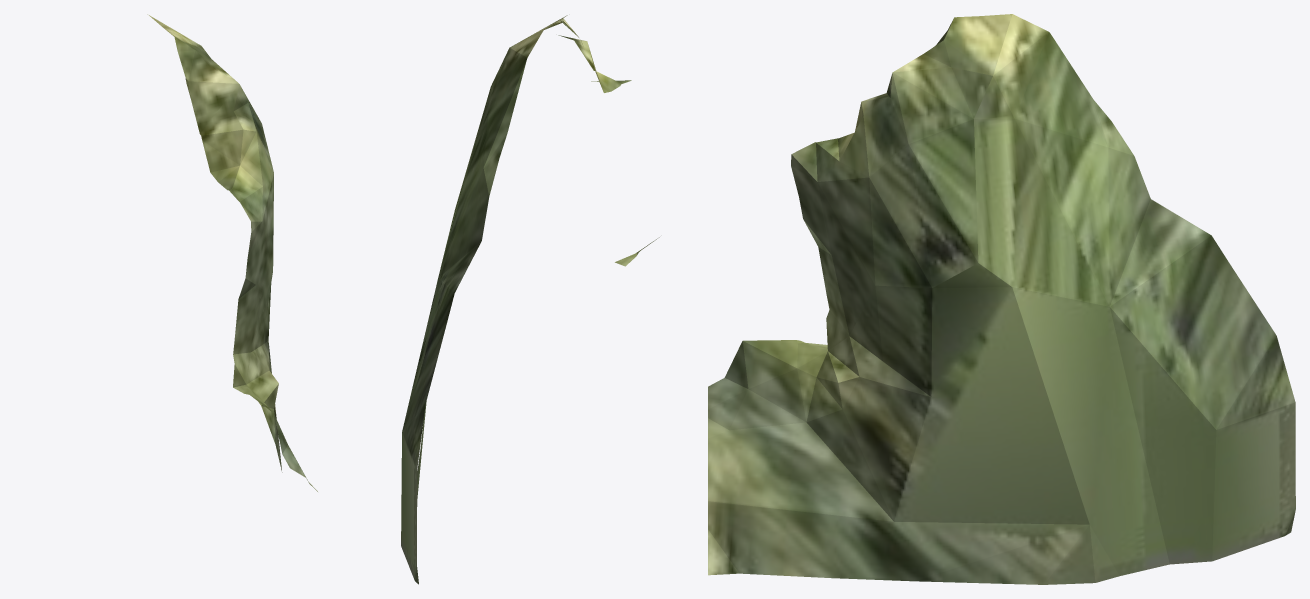
3 renders of one model, left to right at view 1: azimuth 30°, elevation 25°; view 2: azimuth 150°, elevation 25°; view 3: azimuth 270°, elevation 25°, orthographic. The views are drawn at different scales.
Size of the model in its own units: 0.8518 by 3.91 by 4.02.
1 material, 1 textured.
